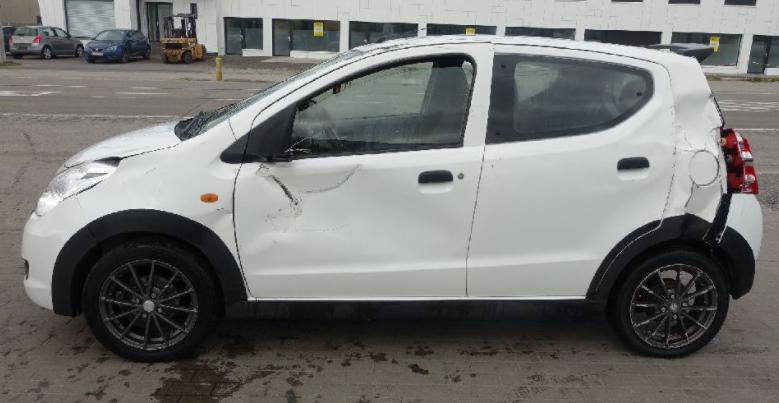Broken part: (704, 193, 764, 301), (720, 128, 758, 195)
Dent: (240, 163, 467, 256), (630, 90, 727, 194), (671, 153, 722, 240), (112, 151, 163, 182), (187, 208, 233, 229)
Missing part: (243, 102, 299, 162)
Paint chip: (681, 143, 721, 208), (299, 166, 359, 193), (273, 175, 298, 206), (708, 89, 725, 132), (715, 180, 723, 218), (255, 163, 269, 175), (684, 133, 693, 149), (713, 135, 719, 147), (200, 141, 207, 145), (673, 146, 676, 155), (677, 125, 681, 128), (672, 164, 675, 168), (491, 164, 493, 168), (216, 209, 220, 210), (221, 208, 225, 209), (500, 157, 501, 160)
Scratch: (267, 214, 352, 231)
